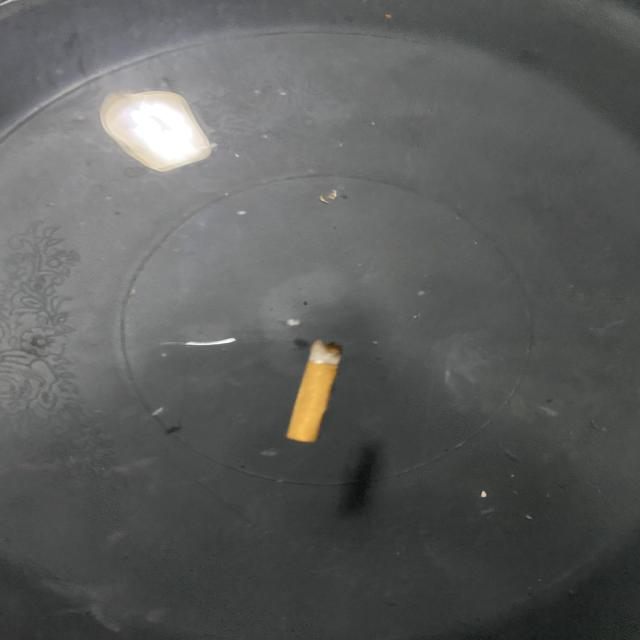Cigarette Filter: (251, 320, 371, 459)
